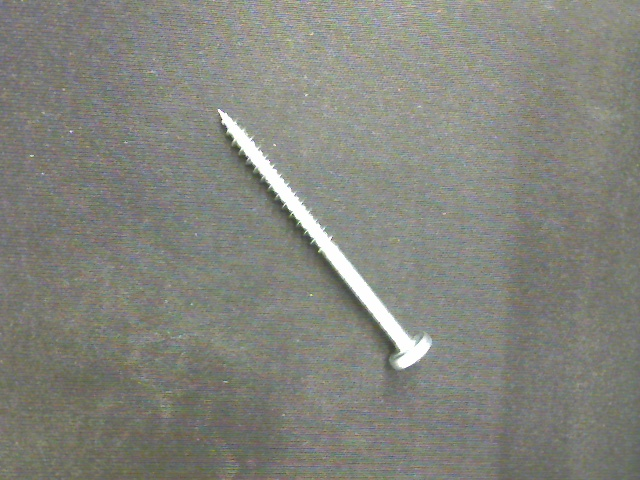Screw: (216, 108, 432, 370)
